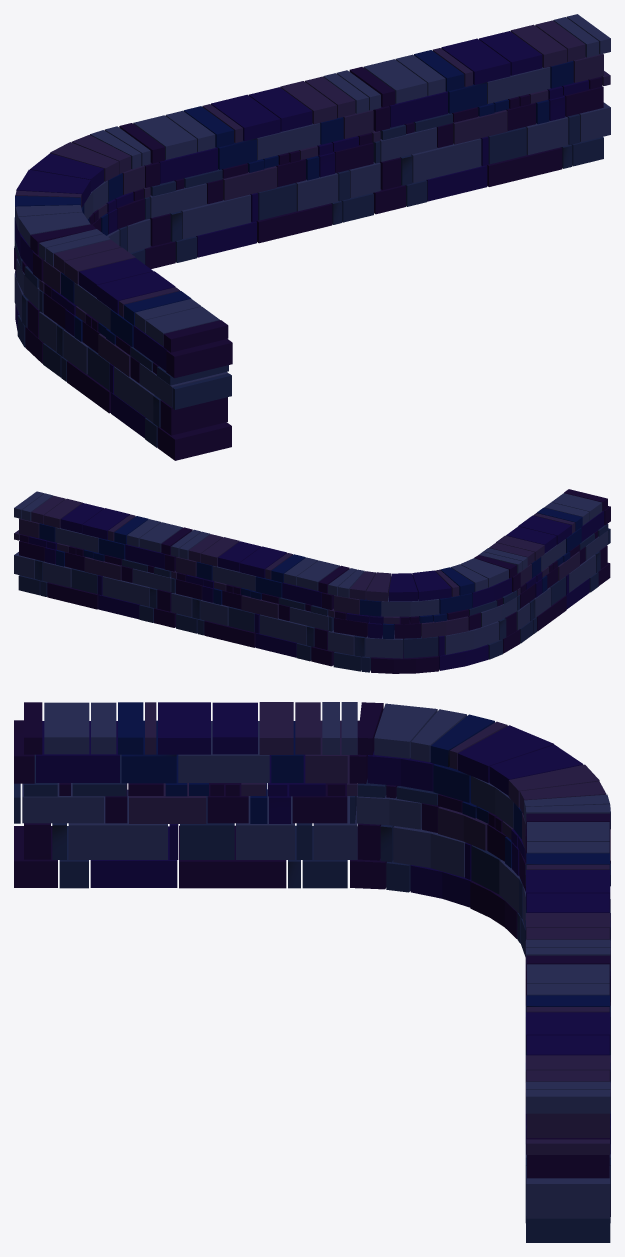
The model's file is WallBlue6.fbx.
3 renders of one model, top to bottom at view 1: azimuth 30°, elevation 25°; view 2: azimuth 150°, elevation 25°; view 3: azimuth 270°, elevation 25°, orthographic. The views are drawn at different scales.
Parts seen in each view (by area): view 1: WallBlue6; view 2: WallBlue6; view 3: WallBlue6.
Boxes of the visible parts, left/top/right/bottom form: WallBlue6: left=14, top=14, right=610, bottom=460; WallBlue6: left=14, top=489, right=610, bottom=673; WallBlue6: left=14, top=702, right=610, bottom=1242.
Size of the model in its own units: 55.73 by 9.9 by 35.62.
1 material, 1 textured.
